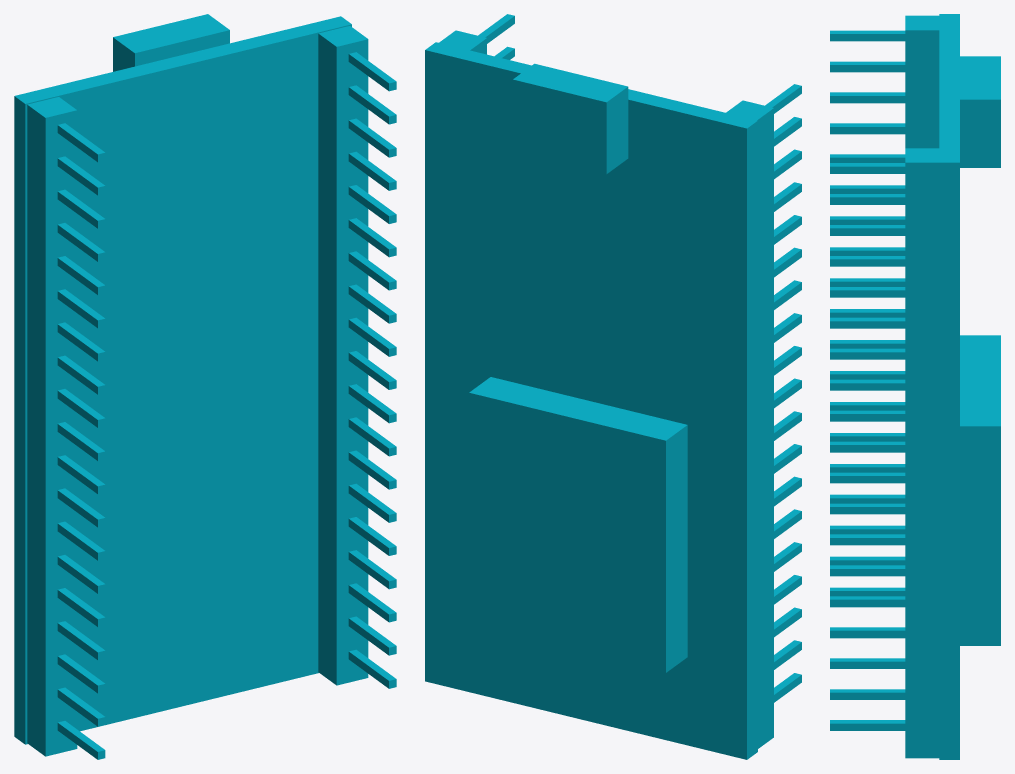
The model's file is esp32s.glb.
The picture shows the model from 3 angles, left to right: view 1: azimuth 30°, elevation 25°; view 2: azimuth 150°, elevation 25°; view 3: azimuth 270°, elevation 25°; orthographic projection. The views are drawn at different scales.
Parts seen in each view (by area): view 1: Node1; view 2: Node1; view 3: Node1.
Part boxes in pixels (<box>): Node1: <box>14,14,396,759</box>; Node1: <box>425,14,801,759</box>; Node1: <box>830,14,1000,759</box>.
Size of the model in its own units: 25.75 by 49.25 by 12.5.
